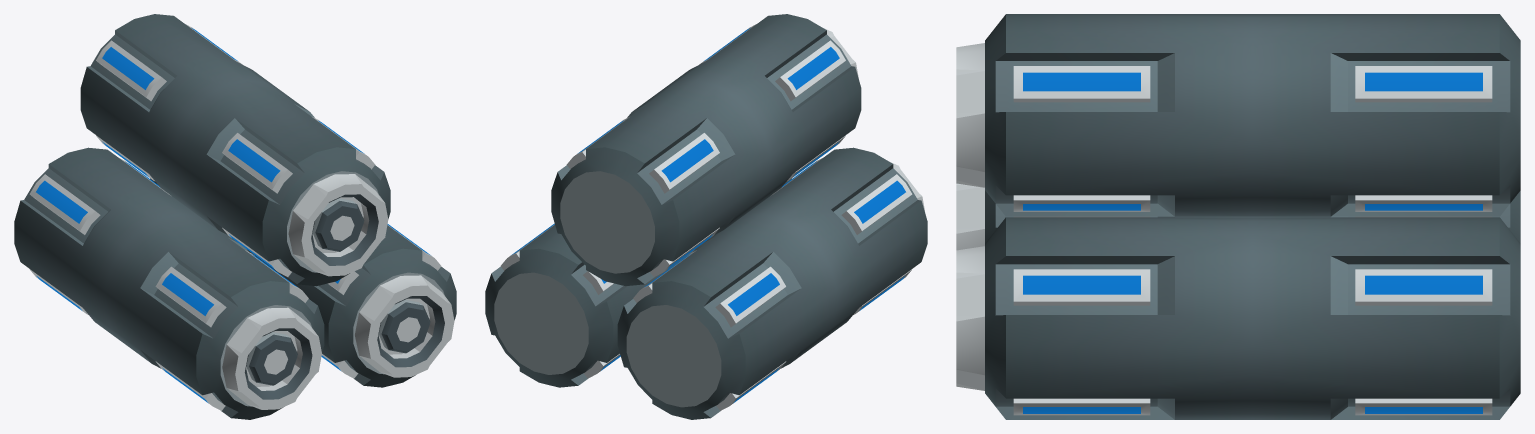
The model's file is Baloon_012.glb.
3 renders of one model, left to right at view 1: azimuth 30°, elevation 25°; view 2: azimuth 150°, elevation 25°; view 3: azimuth 270°, elevation 25°, orthographic. The views are drawn at different scales.
Visible parts, largest first — view 1: Baloon_012; view 2: Baloon_012; view 3: Baloon_012.
Boxes of the visible parts, x1,y1,x2,y2 form: Baloon_012: (14,14,456,419); Baloon_012: (485,14,927,419); Baloon_012: (956,14,1520,419).
Bounding box in the file's own units: 0.7359 × 0.6789 × 1.02.
Materials: 2 (2 with a texture image).
